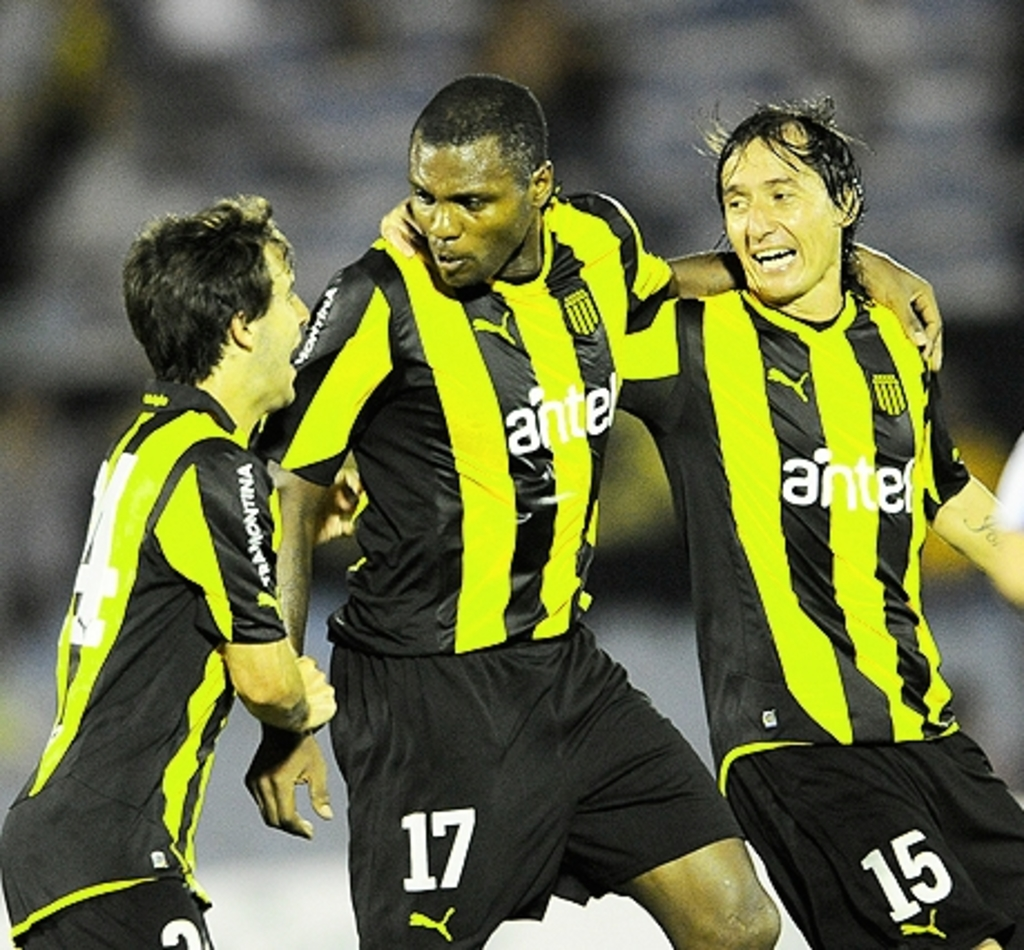Person: (244, 70, 939, 949), (614, 98, 1024, 950), (1, 194, 334, 948)
